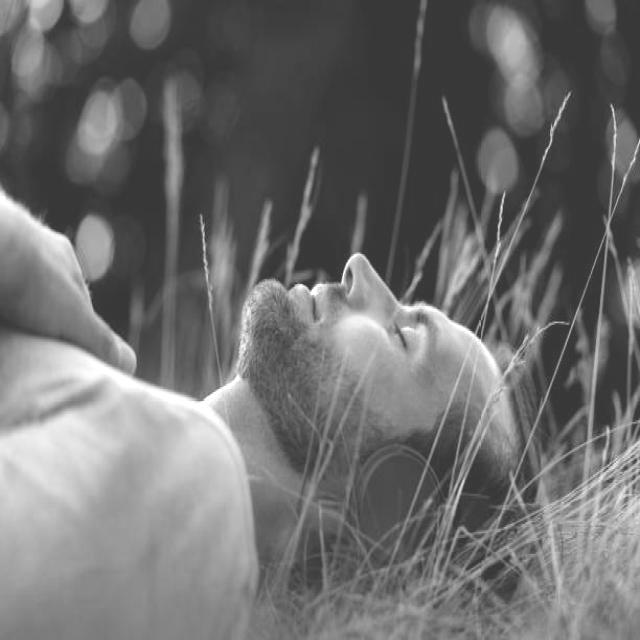real: (230, 254, 524, 481), (382, 299, 449, 372)
